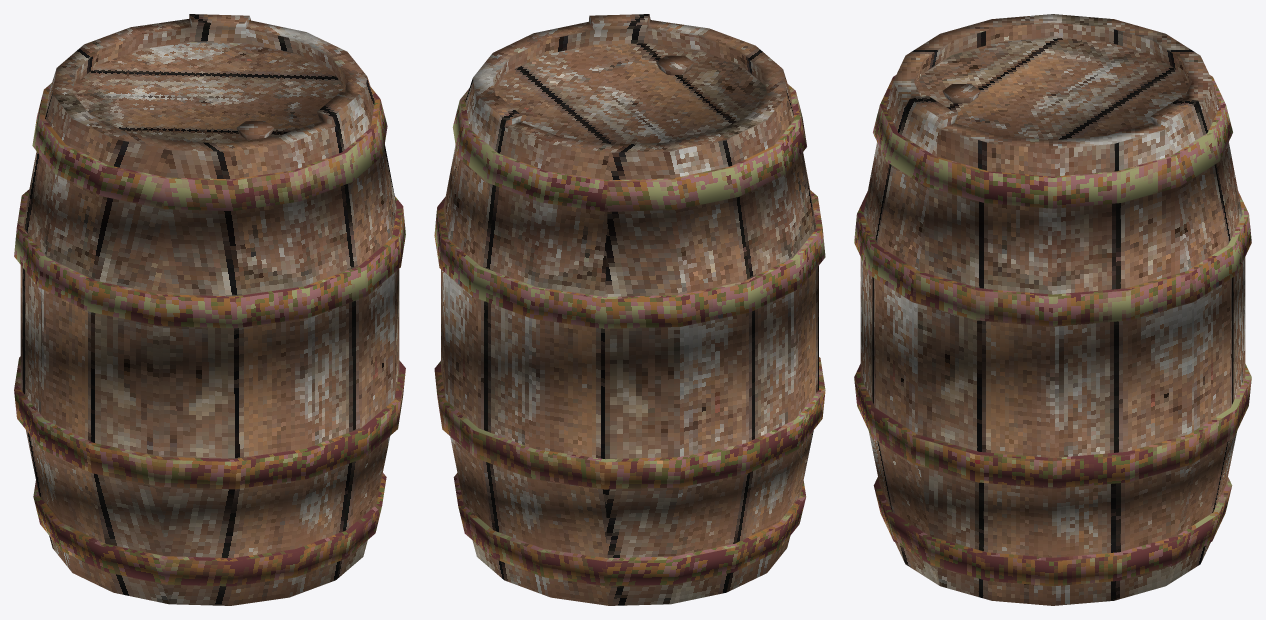
File: barrel.glb
3 views of the same model, side by side, from view 1: azimuth 30°, elevation 25°; view 2: azimuth 150°, elevation 25°; view 3: azimuth 270°, elevation 25° (orthographic).
Visible parts, largest first — view 1: target.002; view 2: target.002; view 3: target.002.
Part boxes in pixels (x1,y1,x2,y2): target.002: (14, 14, 405, 605); target.002: (434, 14, 825, 605); target.002: (854, 14, 1251, 605).
Bounding box in the file's own units: 1.11 × 1.43 × 1.11.
Materials: 1 (1 with a texture image).
